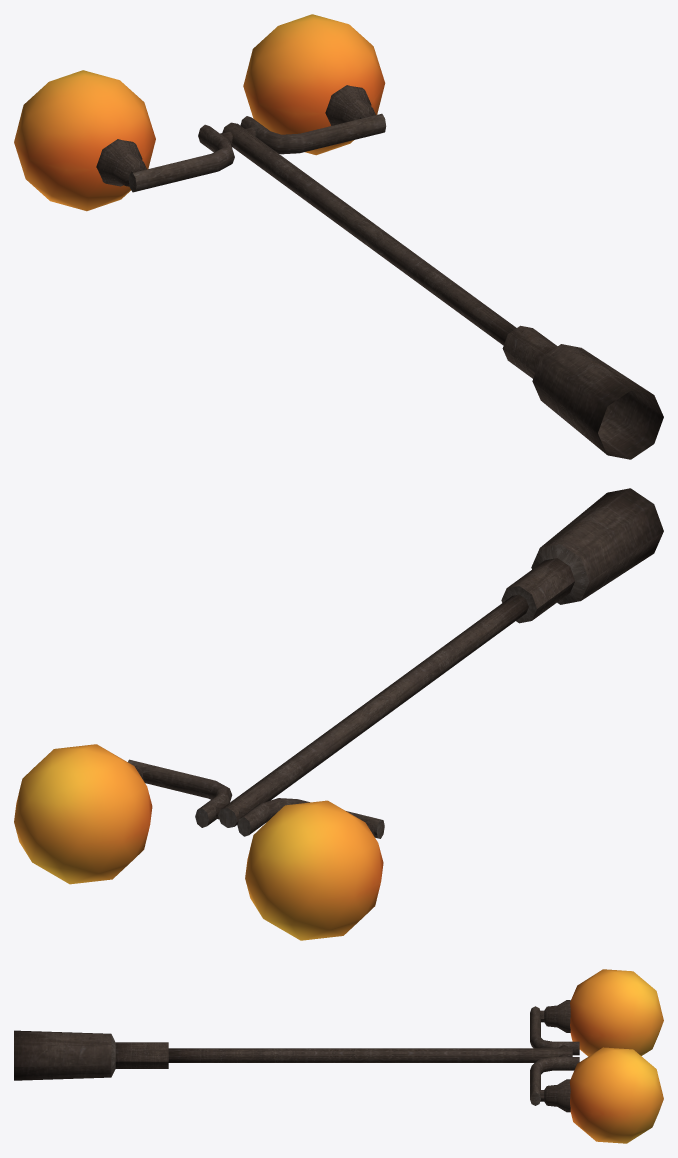
The model's file is StreetLight_B.fbx.
The picture shows the model from 3 angles, top to bottom: view 1: azimuth 30°, elevation 25°; view 2: azimuth 150°, elevation 25°; view 3: azimuth 270°, elevation 25°; orthographic projection. The views are drawn at different scales.
Parts seen in each view (by area): view 1: StreetLight_B; view 2: StreetLight_B; view 3: StreetLight_B.
Part boxes in pixels (bbox=[...]): StreetLight_B: bbox=[14, 14, 663, 459]; StreetLight_B: bbox=[14, 488, 663, 940]; StreetLight_B: bbox=[14, 969, 663, 1143].
Size of the model in its own units: 0.3288 by 0.1154 by 0.7546.
